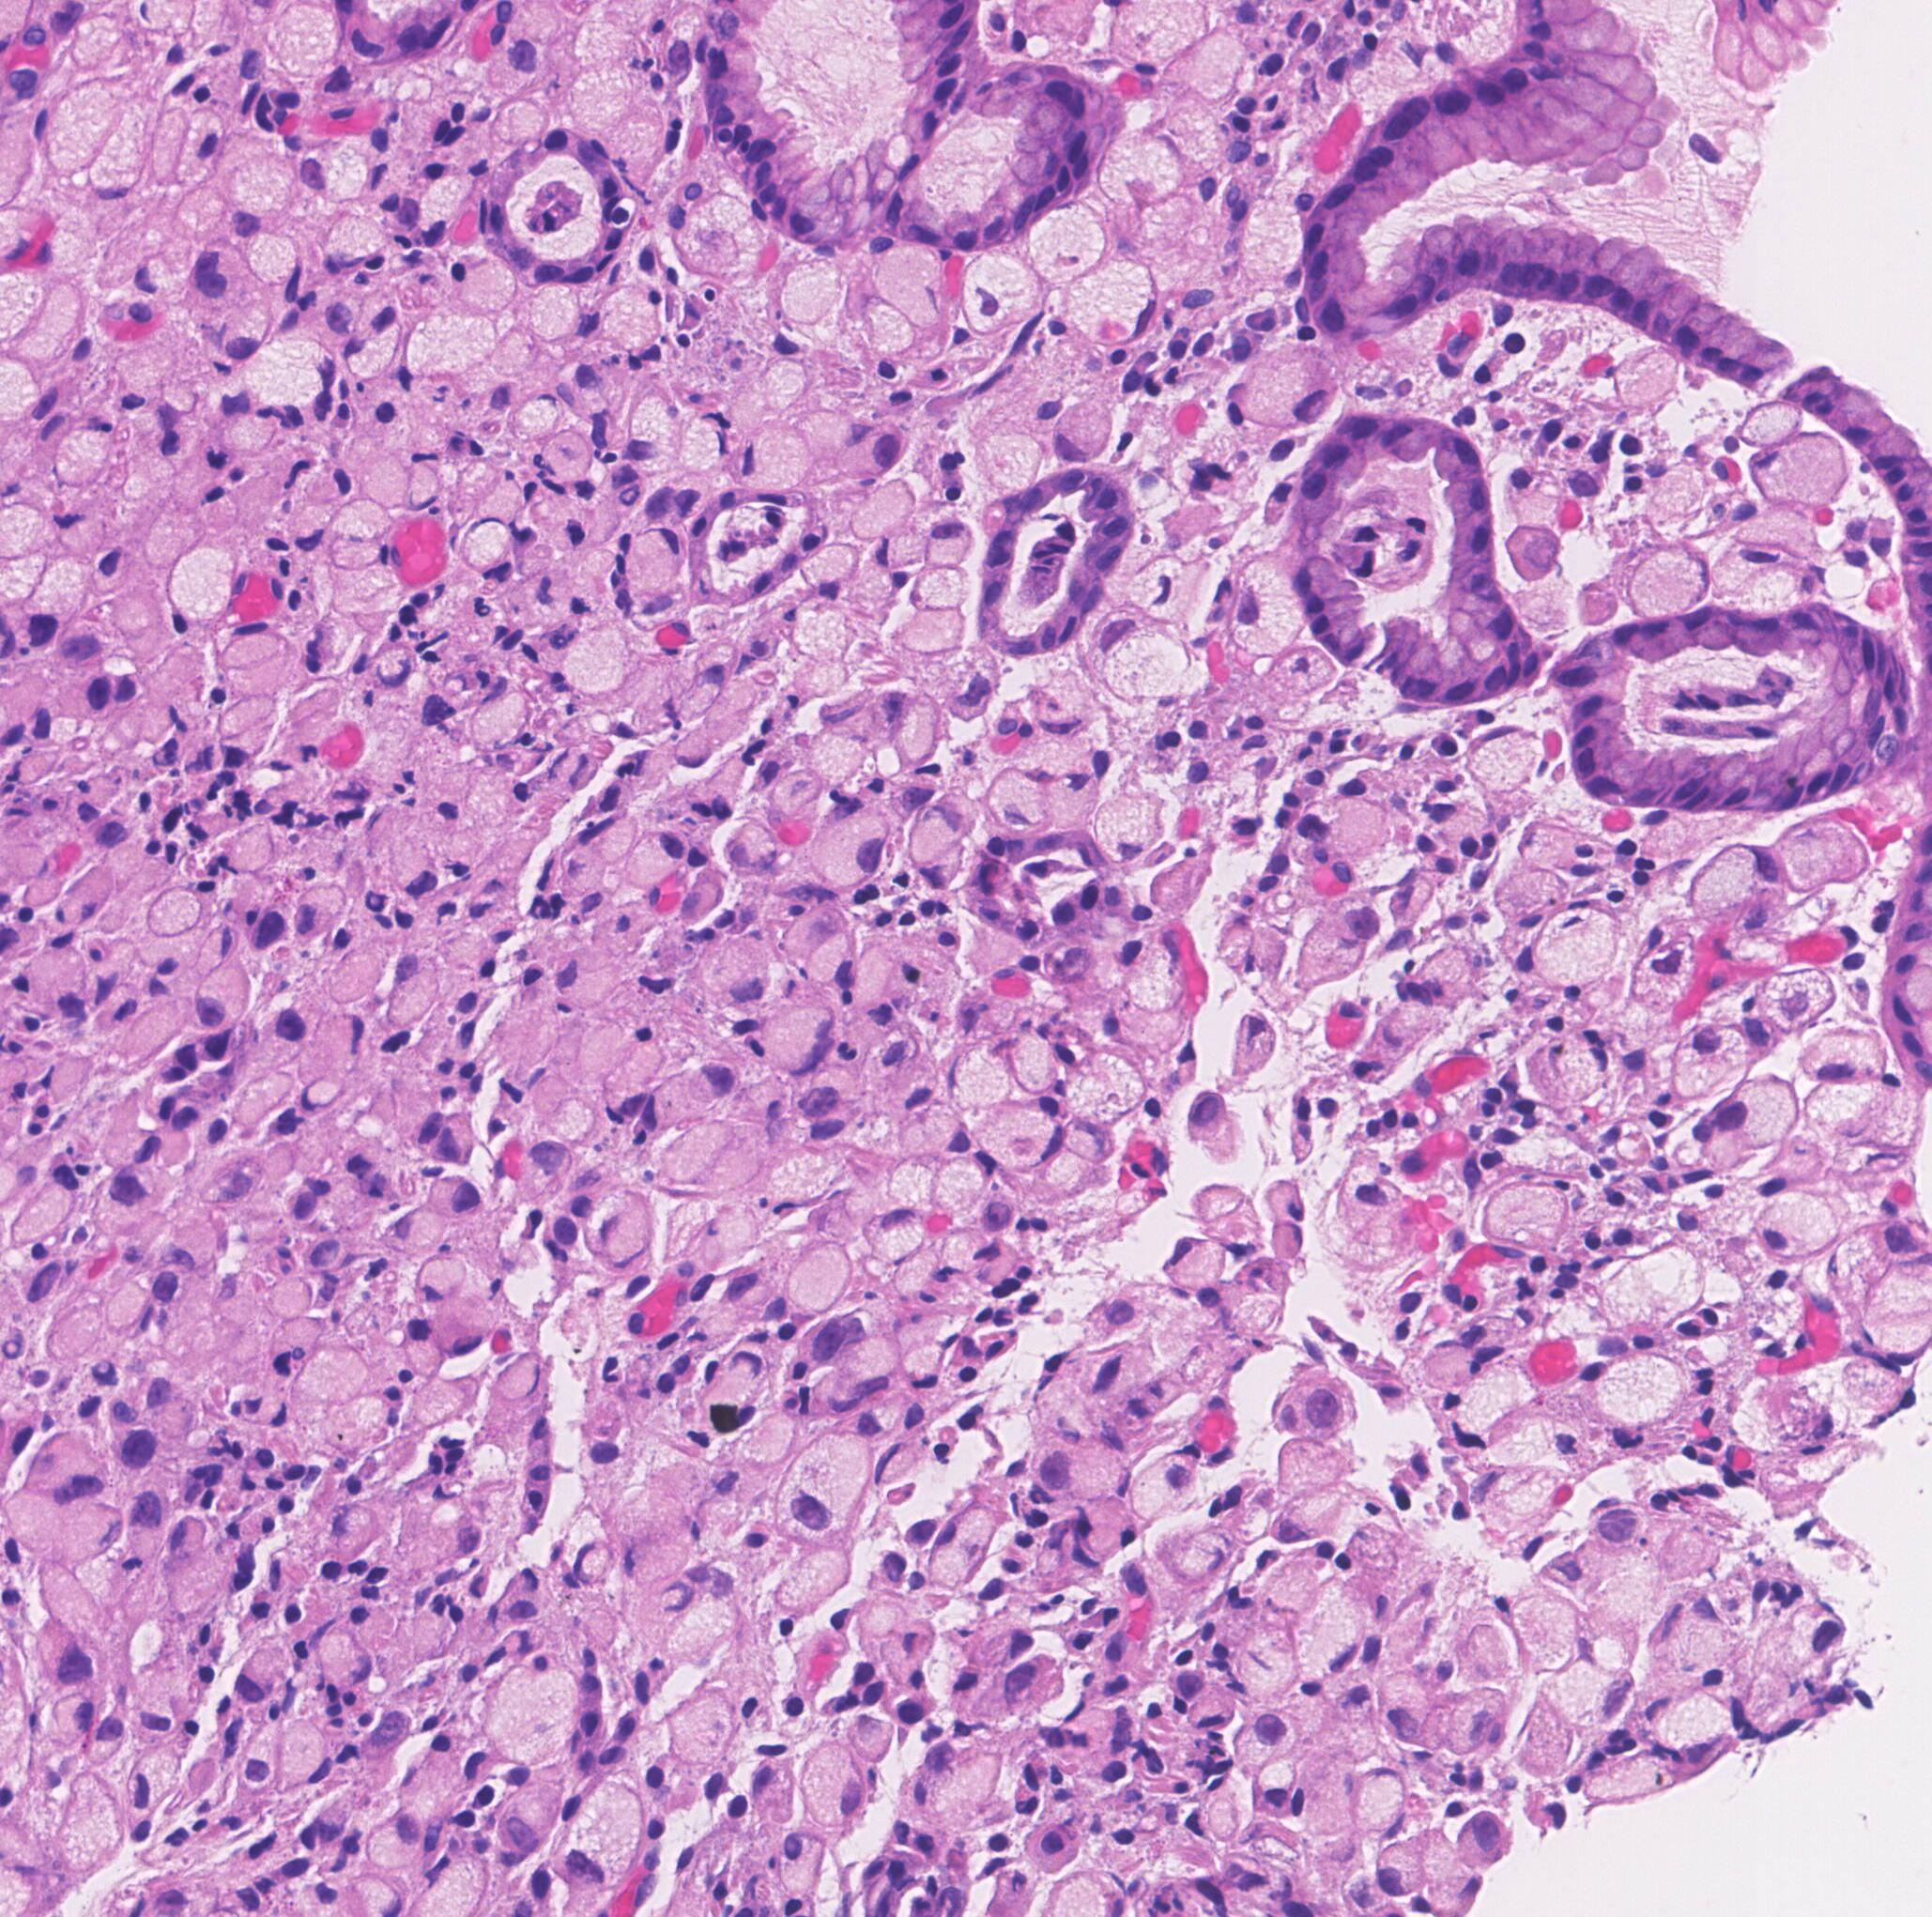ring_cell_cancer: (1088, 609, 1186, 695), (790, 1434, 870, 1536), (1827, 1066, 1921, 1150), (569, 1789, 646, 1889), (1446, 1368, 1541, 1448), (1228, 562, 1307, 651), (195, 235, 272, 327), (1753, 1188, 1848, 1260), (1828, 1224, 1900, 1318), (1244, 349, 1335, 423), (1295, 1585, 1369, 1676), (1751, 439, 1850, 507), (1716, 546, 1820, 611), (1514, 1594, 1599, 1673), (1299, 902, 1377, 987), (1563, 1545, 1660, 1612), (1070, 267, 1153, 344), (1783, 820, 1872, 890), (923, 1504, 1000, 1585), (44, 91, 121, 170), (1107, 128, 1186, 205), (923, 1743, 1002, 1820), (1692, 846, 1774, 920), (1602, 1361, 1692, 1427), (814, 806, 888, 887), (676, 1564, 741, 1655), (1483, 1181, 1572, 1246), (91, 109, 154, 200), (874, 251, 948, 327), (1623, 549, 1711, 613), (1544, 1661, 1634, 1722), (1757, 1610, 1851, 1668), (1804, 1018, 1888, 1083), (223, 160, 297, 233), (802, 1743, 867, 1826), (1297, 1747, 1360, 1831), (667, 1692, 737, 1768), (498, 1771, 567, 1849), (1541, 906, 1609, 983), (1172, 30, 1242, 104), (969, 258, 1044, 327), (1760, 971, 1843, 1032), (1118, 936, 1186, 1009), (1671, 1594, 1739, 1668), (626, 386, 681, 477), (733, 428, 814, 490), (1102, 987, 1183, 1048), (574, 19, 655, 81), (1465, 723, 1537, 792), (32, 1436, 107, 1501), (1685, 1023, 1748, 1101), (1037, 1441, 1116, 1503), (1535, 1045, 1614, 1106), (779, 258, 849, 327), (1478, 1464, 1560, 1522), (984, 1104, 1062, 1166), (1514, 1698, 1576, 1775), (298, 144, 377, 204), (1195, 1190, 1262, 1260), (1013, 729, 1095, 785), (540, 488, 619, 546), (986, 765, 1055, 832), (769, 1009, 839, 1074), (1732, 1076, 1797, 1146), (600, 283, 663, 355), (707, 1461, 770, 1533), (305, 1011, 367, 1085), (112, 349, 179, 416), (911, 790, 976, 858), (1132, 1448, 1195, 1519), (767, 1157, 839, 1218), (272, 5, 344, 67), (58, 416, 119, 488), (323, 1394, 397, 1454), (1648, 1519, 1723, 1576), (1427, 1829, 1483, 1906), (100, 1169, 168, 1232), (1413, 946, 1483, 1008), (1518, 825, 1611, 871), (530, 283, 595, 348), (1097, 790, 1160, 857), (1669, 1195, 1748, 1248), (1551, 1411, 1618, 1473), (1499, 1399, 1556, 1469), (1277, 1487, 1348, 1545), (623, 1533, 695, 1589), (1755, 1141, 1827, 1197), (1662, 1698, 1735, 1752), (946, 1046, 1011, 1108), (1353, 1764, 1413, 1831), (139, 1659, 191, 1734), (193, 962, 249, 1032), (1706, 992, 1778, 1046), (1844, 1359, 1916, 1413), (1339, 1164, 1400, 1227), (1284, 1682, 1346, 1745), (363, 1806, 428, 1866), (68, 1501, 126, 1568), (553, 950, 619, 1008), (1493, 874, 1569, 925), (1332, 1682, 1381, 1759), (390, 951, 442, 1023), (267, 1315, 330, 1375), (626, 829, 691, 887), (556, 362, 621, 420), (1383, 1669, 1439, 1736), (33, 1626, 93, 1687), (1235, 1710, 1299, 1768), (897, 946, 962, 1002), (128, 1747, 184, 1812), (1448, 1684, 1504, 1748), (328, 1501, 384, 1566), (637, 1576, 693, 1641), (33, 948, 86, 1016), (391, 823, 439, 899), (1035, 672, 1095, 732), (284, 1719, 333, 1791), (1641, 937, 1690, 1009), (969, 1612, 1034, 1666), (1699, 1106, 1753, 1171), (516, 1143, 572, 1204), (1055, 400, 1109, 463), (1635, 1666, 1700, 1719), (718, 939, 770, 1004), (321, 1631, 379, 1689), (1132, 556, 1188, 616), (1507, 463, 1563, 523), (332, 211, 386, 272), (635, 525, 683, 595), (604, 1204, 656, 1267), (102, 1124, 165, 1176), (1270, 644, 1335, 695), (451, 258, 516, 309), (179, 111, 225, 183), (1228, 1011, 1277, 1078), (870, 1206, 928, 1262), (61, 865, 118, 923), (297, 881, 349, 943), (949, 648, 997, 714), (1048, 769, 1102, 827), (435, 1301, 493, 1355), (486, 42, 544, 97), (225, 302, 277, 362), (411, 1253, 472, 1304), (844, 427, 907, 476), (802, 411, 872, 455), (1169, 1232, 1223, 1289), (753, 1761, 798, 1827), (1169, 1531, 1230, 1580), (848, 560, 900, 616), (1372, 1842, 1428, 1894), (170, 1220, 223, 1273), (725, 822, 779, 872), (648, 1081, 707, 1127), (219, 829, 279, 874), (383, 1210, 444, 1253), (237, 1645, 286, 1698), (163, 416, 211, 470), (86, 1706, 128, 1766), (876, 521, 925, 572), (493, 1355, 547, 1401), (1641, 808, 1695, 853), (221, 1271, 267, 1325), (132, 1496, 168, 1562), (918, 848, 970, 894), (195, 927, 240, 980), (61, 500, 105, 555), (1063, 1118, 1118, 1162), (927, 1106, 974, 1155), (111, 1283, 156, 1334), (1742, 402, 1802, 441), (219, 725, 275, 765), (807, 549, 855, 597), (193, 488, 240, 535), (53, 1694, 98, 1743), (928, 518, 970, 569), (304, 1071, 351, 1115), (428, 1176, 477, 1218), (897, 1060, 937, 1109), (1500, 922, 1541, 971), (905, 1343, 944, 1392), (405, 463, 444, 511), (311, 467, 353, 499)
